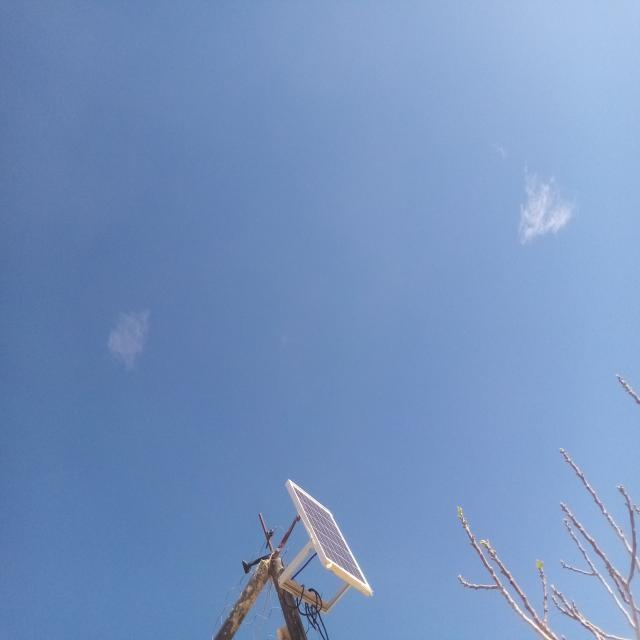Normal Solar Panel: (289, 479, 373, 591)
